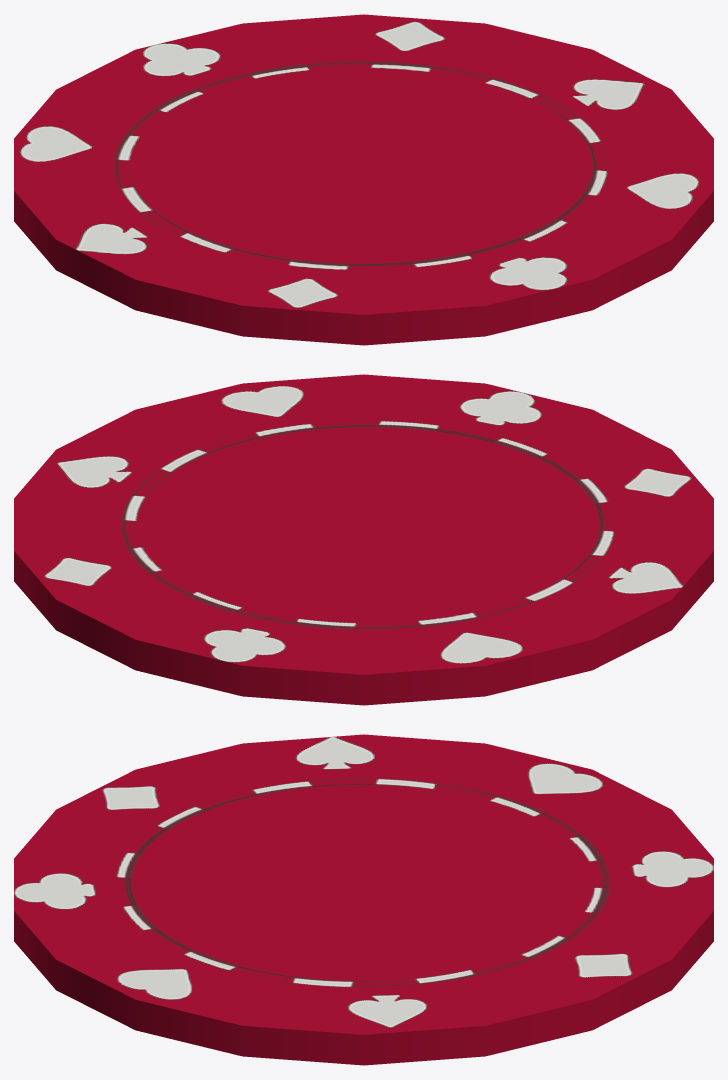
Rendered from pokerChipRed.FBX.
The picture shows the model from 3 angles, top to bottom: view 1: azimuth 30°, elevation 25°; view 2: azimuth 150°, elevation 25°; view 3: azimuth 270°, elevation 25°; orthographic projection.
Parts seen in each view (by area): view 1: Cylinder001; view 2: Cylinder001; view 3: Cylinder001.
Part boxes in pixels (x1,y1,x2,y2): Cylinder001: (14,14,713,345); Cylinder001: (14,374,713,705); Cylinder001: (14,734,713,1065).
Bounding box in the file's own units: 4.12 × 0.1958 × 4.05.
1 material, 1 textured.
